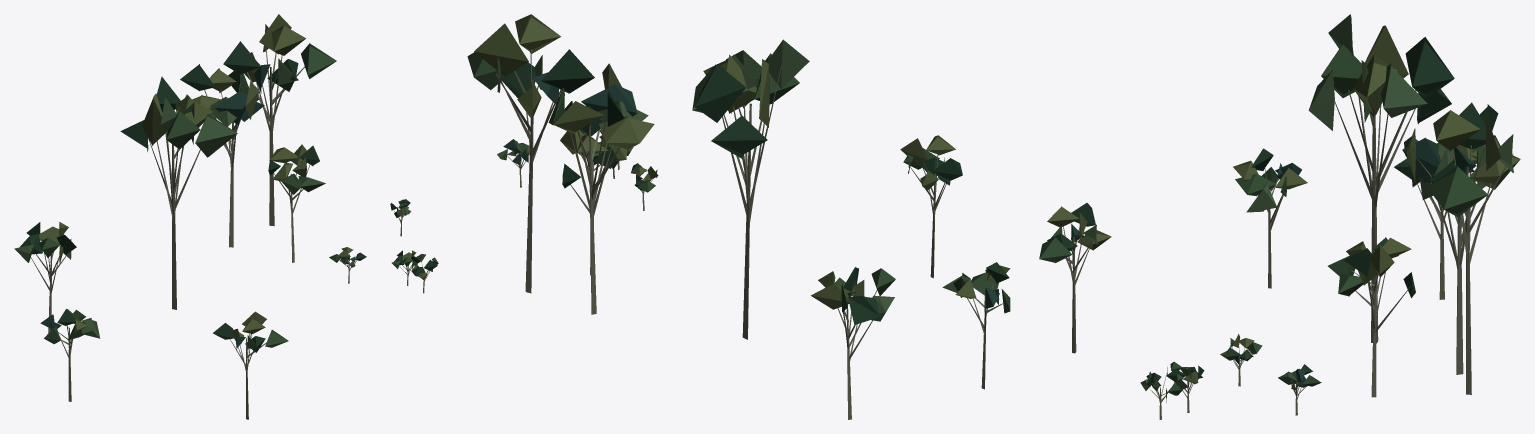
The model's file is forest_19_23.dae.
The picture shows the model from 3 angles, left to right: view 1: azimuth 30°, elevation 25°; view 2: azimuth 150°, elevation 25°; view 3: azimuth 270°, elevation 25°; orthographic projection. The views are drawn at different scales.
Parts seen in each view (by area): view 1: Node; view 2: Node; view 3: Node.
Boxes of the visible parts, box(x1,y1,x2,y2) form: Node: box(14, 14, 438, 419); Node: box(467, 14, 1010, 419); Node: box(1039, 14, 1520, 419).
Bounding box in the file's own units: 8.98 × 7.07 × 6.
